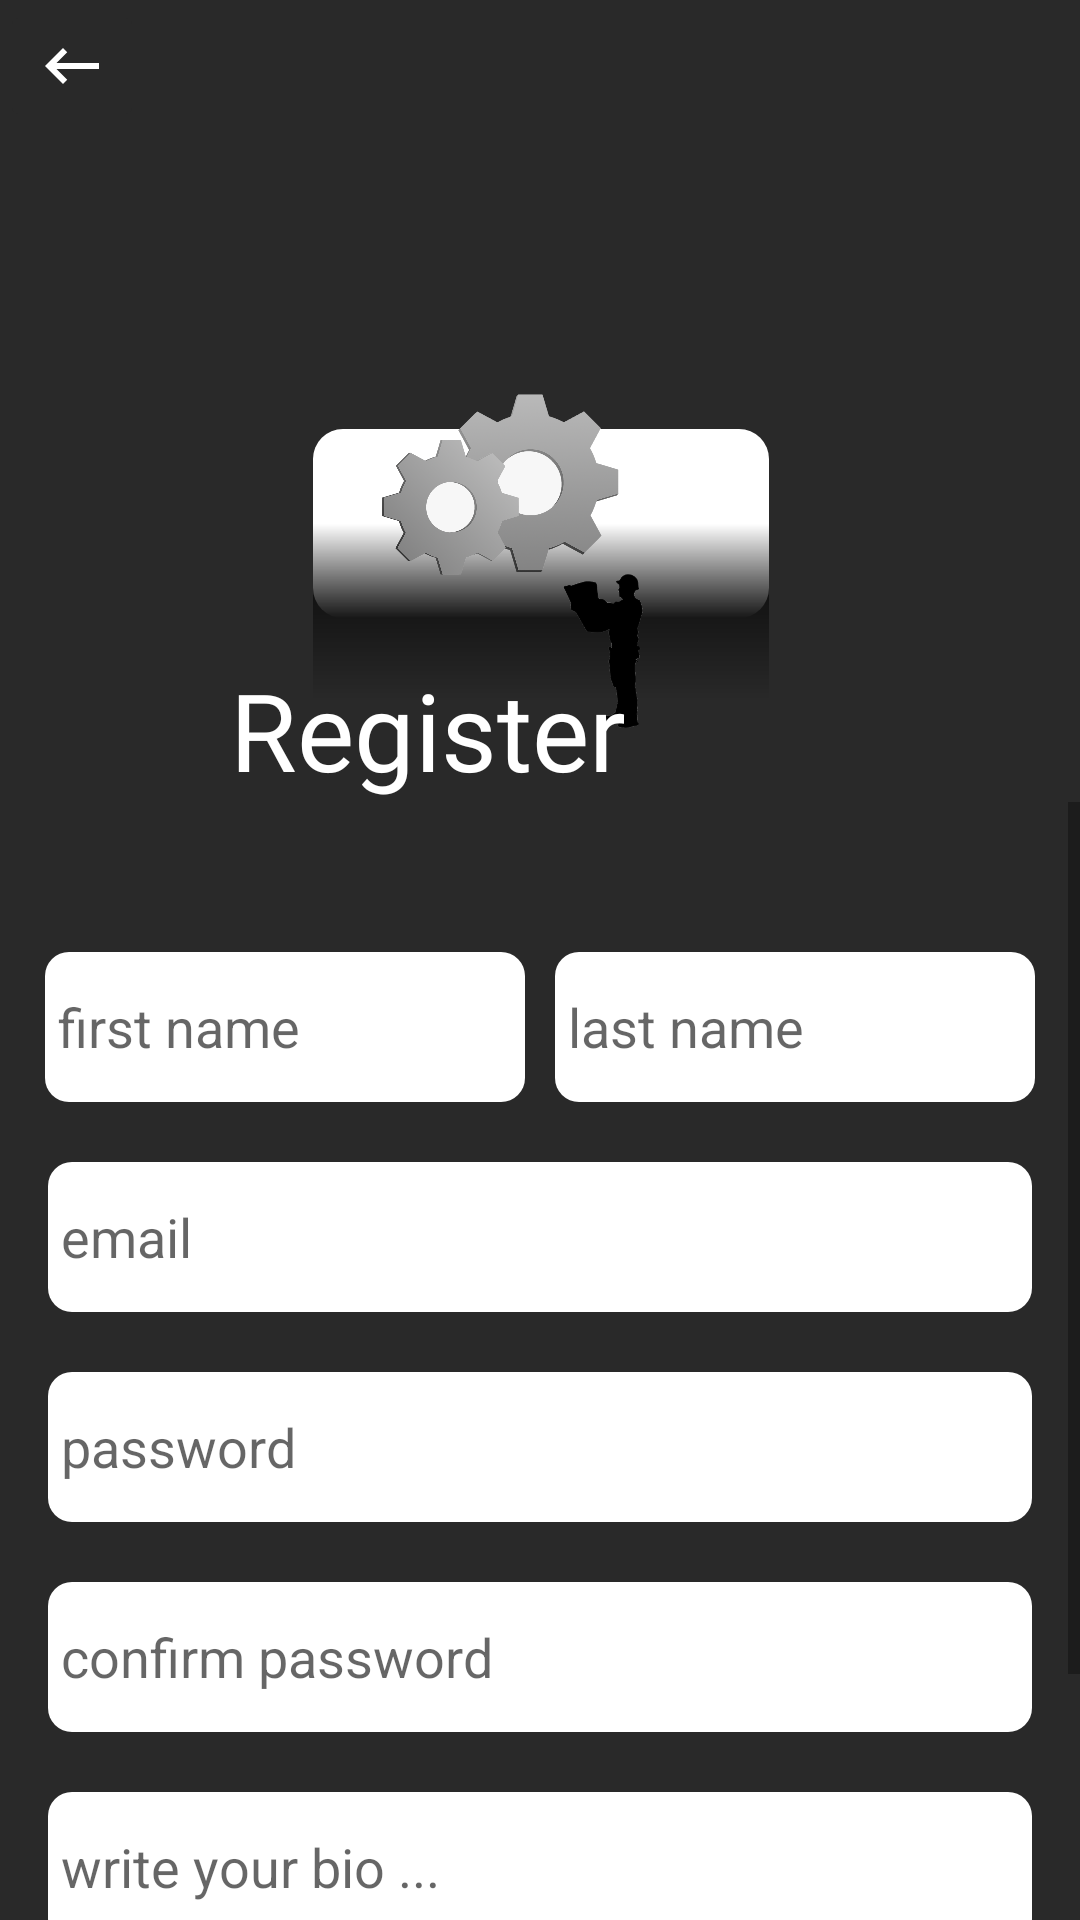

Icons on this 1080×1920 Android screen, each with the point to tap as (x=x, y=y):
keyboard backspace: (x=72, y=66)
